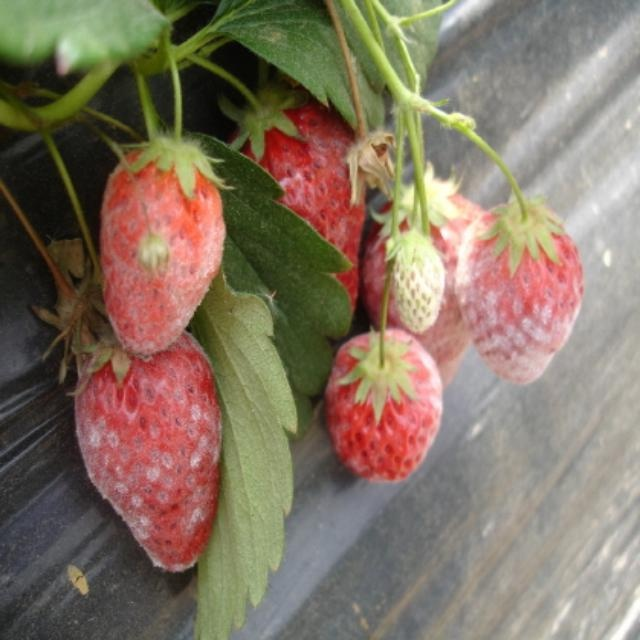Powdery Mildew Fruit: (61, 296, 224, 571), (100, 134, 225, 356), (455, 200, 586, 384), (254, 94, 369, 273), (322, 327, 444, 483), (385, 224, 447, 334)
